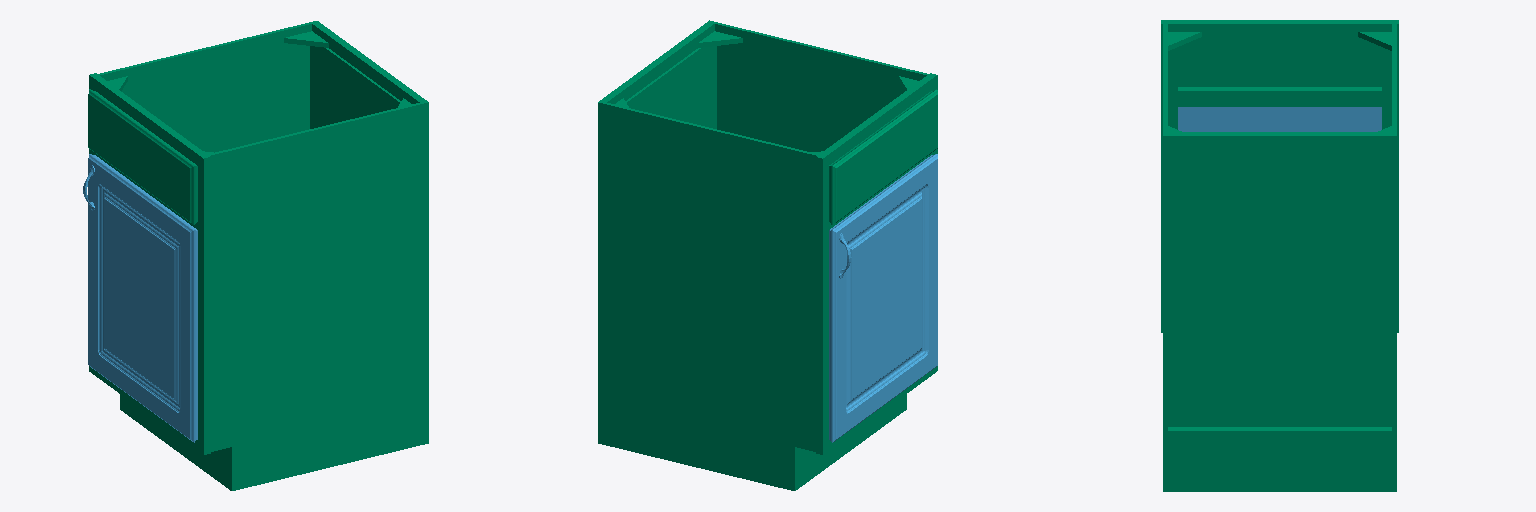
robot.urdf — partnet_20d00eeac9377d1212de5317fe5b354f:
<?xml version="1.0" ?>
<robot name="partnet_20d00eeac9377d1212de5317fe5b354f">
	<link name="base"/>
	<link name="link_0">
		<visual name="cabinet_door_surface-8">
			<origin xyz="-0.39966912784742503 -0.7383270263671877 -0.5033735011862669"/>
			<geometry>
				<mesh filename="textured_objs/original-47.obj"/>
			</geometry>
		</visual>
		<visual name="cabinet_door_surface-8">
			<origin xyz="-0.39966912784742503 -0.7383270263671877 -0.5033735011862669"/>
			<geometry>
				<mesh filename="textured_objs/original-41.obj"/>
			</geometry>
		</visual>
		<visual name="cabinet_door_surface-8">
			<origin xyz="-0.39966912784742503 -0.7383270263671877 -0.5033735011862669"/>
			<geometry>
				<mesh filename="textured_objs/original-37.obj"/>
			</geometry>
		</visual>
		<visual name="cabinet_door_surface-8">
			<origin xyz="-0.39966912784742503 -0.7383270263671877 -0.5033735011862669"/>
			<geometry>
				<mesh filename="textured_objs/original-43.obj"/>
			</geometry>
		</visual>
		<visual name="cabinet_door_surface-8">
			<origin xyz="-0.39966912784742503 -0.7383270263671877 -0.5033735011862669"/>
			<geometry>
				<mesh filename="textured_objs/original-39.obj"/>
			</geometry>
		</visual>
		<visual name="cabinet_door_surface-8">
			<origin xyz="-0.39966912784742503 -0.7383270263671877 -0.5033735011862669"/>
			<geometry>
				<mesh filename="textured_objs/original-42.obj"/>
			</geometry>
		</visual>
		<visual name="cabinet_door_surface-8">
			<origin xyz="-0.39966912784742503 -0.7383270263671877 -0.5033735011862669"/>
			<geometry>
				<mesh filename="textured_objs/original-40.obj"/>
			</geometry>
		</visual>
		<visual name="cabinet_door_surface-8">
			<origin xyz="-0.39966912784742503 -0.7383270263671877 -0.5033735011862669"/>
			<geometry>
				<mesh filename="textured_objs/original-44.obj"/>
			</geometry>
		</visual>
		<visual name="cabinet_door_surface-8">
			<origin xyz="-0.39966912784742503 -0.7383270263671877 -0.5033735011862669"/>
			<geometry>
				<mesh filename="textured_objs/original-38.obj"/>
			</geometry>
		</visual>
		<visual name="cabinet_door_surface-8">
			<origin xyz="-0.39966912784742503 -0.7383270263671877 -0.5033735011862669"/>
			<geometry>
				<mesh filename="textured_objs/original-46.obj"/>
			</geometry>
		</visual>
		<visual name="handle-9">
			<origin xyz="-0.39966912784742503 -0.7383270263671877 -0.5033735011862669"/>
			<geometry>
				<mesh filename="textured_objs/original-48.obj"/>
			</geometry>
		</visual>
		<collision>
			<origin xyz="-0.39966912784742503 -0.7383270263671877 -0.5033735011862669"/>
			<geometry>
				<mesh filename="textured_objs/original-47.obj"/>
			</geometry>
		</collision>
		<collision>
			<origin xyz="-0.39966912784742503 -0.7383270263671877 -0.5033735011862669"/>
			<geometry>
				<mesh filename="textured_objs/original-41.obj"/>
			</geometry>
		</collision>
		<collision>
			<origin xyz="-0.39966912784742503 -0.7383270263671877 -0.5033735011862669"/>
			<geometry>
				<mesh filename="textured_objs/original-37.obj"/>
			</geometry>
		</collision>
		<collision>
			<origin xyz="-0.39966912784742503 -0.7383270263671877 -0.5033735011862669"/>
			<geometry>
				<mesh filename="textured_objs/original-43.obj"/>
			</geometry>
		</collision>
		<collision>
			<origin xyz="-0.39966912784742503 -0.7383270263671877 -0.5033735011862669"/>
			<geometry>
				<mesh filename="textured_objs/original-39.obj"/>
			</geometry>
		</collision>
		<collision>
			<origin xyz="-0.39966912784742503 -0.7383270263671877 -0.5033735011862669"/>
			<geometry>
				<mesh filename="textured_objs/original-42.obj"/>
			</geometry>
		</collision>
		<collision>
			<origin xyz="-0.39966912784742503 -0.7383270263671877 -0.5033735011862669"/>
			<geometry>
				<mesh filename="textured_objs/original-40.obj"/>
			</geometry>
		</collision>
		<collision>
			<origin xyz="-0.39966912784742503 -0.7383270263671877 -0.5033735011862669"/>
			<geometry>
				<mesh filename="textured_objs/original-44.obj"/>
			</geometry>
		</collision>
		<collision>
			<origin xyz="-0.39966912784742503 -0.7383270263671877 -0.5033735011862669"/>
			<geometry>
				<mesh filename="textured_objs/original-38.obj"/>
			</geometry>
		</collision>
		<collision>
			<origin xyz="-0.39966912784742503 -0.7383270263671877 -0.5033735011862669"/>
			<geometry>
				<mesh filename="textured_objs/original-46.obj"/>
			</geometry>
		</collision>
		<collision>
			<origin xyz="-0.39966912784742503 -0.7383270263671877 -0.5033735011862669"/>
			<geometry>
				<mesh filename="textured_objs/original-48.obj"/>
			</geometry>
		</collision>
	</link>
	<joint name="joint_0" type="revolute">
		<origin xyz="0.39966912784742503 0.7383270263671877 0.5033735011862669"/>
		<axis xyz="0 1 0"/>
		<child link="link_0"/>
		<parent link="link_1"/>
		<limit lower="0.0" upper="1.5833626974092556"/>
	</joint>
	<link name="link_1">
		<visual name="drawer_front-7">
			<origin xyz="0 0 0"/>
			<geometry>
				<mesh filename="textured_objs/original-34.obj"/>
			</geometry>
		</visual>
		<visual name="drawer_front-7">
			<origin xyz="0 0 0"/>
			<geometry>
				<mesh filename="textured_objs/original-31.obj"/>
			</geometry>
		</visual>
		<visual name="drawer_front-7">
			<origin xyz="0 0 0"/>
			<geometry>
				<mesh filename="textured_objs/original-29.obj"/>
			</geometry>
		</visual>
		<visual name="drawer_front-7">
			<origin xyz="0 0 0"/>
			<geometry>
				<mesh filename="textured_objs/original-25.obj"/>
			</geometry>
		</visual>
		<visual name="drawer_front-7">
			<origin xyz="0 0 0"/>
			<geometry>
				<mesh filename="textured_objs/original-30.obj"/>
			</geometry>
		</visual>
		<visual name="drawer_front-7">
			<origin xyz="0 0 0"/>
			<geometry>
				<mesh filename="textured_objs/original-28.obj"/>
			</geometry>
		</visual>
		<visual name="drawer_front-7">
			<origin xyz="0 0 0"/>
			<geometry>
				<mesh filename="textured_objs/original-32.obj"/>
			</geometry>
		</visual>
		<visual name="drawer_front-7">
			<origin xyz="0 0 0"/>
			<geometry>
				<mesh filename="textured_objs/original-26.obj"/>
			</geometry>
		</visual>
		<visual name="drawer_front-7">
			<origin xyz="0 0 0"/>
			<geometry>
				<mesh filename="textured_objs/original-27.obj"/>
			</geometry>
		</visual>
		<visual name="drawer_front-7">
			<origin xyz="0 0 0"/>
			<geometry>
				<mesh filename="textured_objs/original-35.obj"/>
			</geometry>
		</visual>
		<visual name="frame_vertical_bar-20">
			<origin xyz="0 0 0"/>
			<geometry>
				<mesh filename="textured_objs/original-7.obj"/>
			</geometry>
		</visual>
		<visual name="frame_vertical_bar-21">
			<origin xyz="0 0 0"/>
			<geometry>
				<mesh filename="textured_objs/original-3.obj"/>
			</geometry>
		</visual>
		<visual name="frame_horizontal_bar-22">
			<origin xyz="0 0 0"/>
			<geometry>
				<mesh filename="textured_objs/original-8.obj"/>
			</geometry>
		</visual>
		<visual name="frame_horizontal_bar-23">
			<origin xyz="0 0 0"/>
			<geometry>
				<mesh filename="textured_objs/original-4.obj"/>
			</geometry>
		</visual>
		<visual name="frame_horizontal_bar-24">
			<origin xyz="0 0 0"/>
			<geometry>
				<mesh filename="textured_objs/original-17.obj"/>
			</geometry>
		</visual>
		<visual name="frame_horizontal_bar-25">
			<origin xyz="0 0 0"/>
			<geometry>
				<mesh filename="textured_objs/original-6.obj"/>
			</geometry>
		</visual>
		<visual name="other_leaf-27">
			<origin xyz="0 0 0"/>
			<geometry>
				<mesh filename="textured_objs/original-21.obj"/>
			</geometry>
		</visual>
		<visual name="other_leaf-28">
			<origin xyz="0 0 0"/>
			<geometry>
				<mesh filename="textured_objs/original-22.obj"/>
			</geometry>
		</visual>
		<visual name="other_leaf-29">
			<origin xyz="0 0 0"/>
			<geometry>
				<mesh filename="textured_objs/original-23.obj"/>
			</geometry>
		</visual>
		<visual name="other_leaf-30">
			<origin xyz="0 0 0"/>
			<geometry>
				<mesh filename="textured_objs/original-20.obj"/>
			</geometry>
		</visual>
		<visual name="vertical_side_panel-31">
			<origin xyz="0 0 0"/>
			<geometry>
				<mesh filename="textured_objs/original-15.obj"/>
			</geometry>
		</visual>
		<visual name="vertical_side_panel-31">
			<origin xyz="0 0 0"/>
			<geometry>
				<mesh filename="textured_objs/original-14.obj"/>
			</geometry>
		</visual>
		<visual name="vertical_side_panel-32">
			<origin xyz="0 0 0"/>
			<geometry>
				<mesh filename="textured_objs/original-11.obj"/>
			</geometry>
		</visual>
		<visual name="vertical_side_panel-32">
			<origin xyz="0 0 0"/>
			<geometry>
				<mesh filename="textured_objs/original-10.obj"/>
			</geometry>
		</visual>
		<visual name="back_panel-33">
			<origin xyz="0 0 0"/>
			<geometry>
				<mesh filename="textured_objs/original-5.obj"/>
			</geometry>
		</visual>
		<visual name="bottom_panel-34">
			<origin xyz="0 0 0"/>
			<geometry>
				<mesh filename="textured_objs/original-2.obj"/>
			</geometry>
		</visual>
		<visual name="other_leaf-36">
			<origin xyz="0 0 0"/>
			<geometry>
				<mesh filename="textured_objs/original-49.obj"/>
			</geometry>
		</visual>
		<visual name="base_side_panel-11">
			<origin xyz="0 0 0"/>
			<geometry>
				<mesh filename="textured_objs/original-16.obj"/>
			</geometry>
		</visual>
		<visual name="base_side_panel-12">
			<origin xyz="0 0 0"/>
			<geometry>
				<mesh filename="textured_objs/original-12.obj"/>
			</geometry>
		</visual>
		<visual name="base_side_panel-13">
			<origin xyz="0 0 0"/>
			<geometry>
				<mesh filename="textured_objs/original-18.obj"/>
			</geometry>
		</visual>
		<visual name="base_side_panel-14">
			<origin xyz="0 0 0"/>
			<geometry>
				<mesh filename="textured_objs/original-19.obj"/>
			</geometry>
		</visual>
		<collision>
			<origin xyz="0 0 0"/>
			<geometry>
				<mesh filename="textured_objs/original-34.obj"/>
			</geometry>
		</collision>
		<collision>
			<origin xyz="0 0 0"/>
			<geometry>
				<mesh filename="textured_objs/original-31.obj"/>
			</geometry>
		</collision>
		<collision>
			<origin xyz="0 0 0"/>
			<geometry>
				<mesh filename="textured_objs/original-29.obj"/>
			</geometry>
		</collision>
		<collision>
			<origin xyz="0 0 0"/>
			<geometry>
				<mesh filename="textured_objs/original-25.obj"/>
			</geometry>
		</collision>
		<collision>
			<origin xyz="0 0 0"/>
			<geometry>
				<mesh filename="textured_objs/original-30.obj"/>
			</geometry>
		</collision>
		<collision>
			<origin xyz="0 0 0"/>
			<geometry>
				<mesh filename="textured_objs/original-28.obj"/>
			</geometry>
		</collision>
		<collision>
			<origin xyz="0 0 0"/>
			<geometry>
				<mesh filename="textured_objs/original-32.obj"/>
			</geometry>
		</collision>
		<collision>
			<origin xyz="0 0 0"/>
			<geometry>
				<mesh filename="textured_objs/original-26.obj"/>
			</geometry>
		</collision>
		<collision>
			<origin xyz="0 0 0"/>
			<geometry>
				<mesh filename="textured_objs/original-27.obj"/>
			</geometry>
		</collision>
		<collision>
			<origin xyz="0 0 0"/>
			<geometry>
				<mesh filename="textured_objs/original-35.obj"/>
			</geometry>
		</collision>
		<collision>
			<origin xyz="0 0 0"/>
			<geometry>
				<mesh filename="textured_objs/original-7.obj"/>
			</geometry>
		</collision>
		<collision>
			<origin xyz="0 0 0"/>
			<geometry>
				<mesh filename="textured_objs/original-3.obj"/>
			</geometry>
		</collision>
		<collision>
			<origin xyz="0 0 0"/>
			<geometry>
				<mesh filename="textured_objs/original-8.obj"/>
			</geometry>
		</collision>
		<collision>
			<origin xyz="0 0 0"/>
			<geometry>
				<mesh filename="textured_objs/original-4.obj"/>
			</geometry>
		</collision>
		<collision>
			<origin xyz="0 0 0"/>
			<geometry>
				<mesh filename="textured_objs/original-17.obj"/>
			</geometry>
		</collision>
		<collision>
			<origin xyz="0 0 0"/>
			<geometry>
				<mesh filename="textured_objs/original-6.obj"/>
			</geometry>
		</collision>
		<collision>
			<origin xyz="0 0 0"/>
			<geometry>
				<mesh filename="textured_objs/original-21.obj"/>
			</geometry>
		</collision>
		<collision>
			<origin xyz="0 0 0"/>
			<geometry>
				<mesh filename="textured_objs/original-22.obj"/>
			</geometry>
		</collision>
		<collision>
			<origin xyz="0 0 0"/>
			<geometry>
				<mesh filename="textured_objs/original-23.obj"/>
			</geometry>
		</collision>
		<collision>
			<origin xyz="0 0 0"/>
			<geometry>
				<mesh filename="textured_objs/original-20.obj"/>
			</geometry>
		</collision>
		<collision>
			<origin xyz="0 0 0"/>
			<geometry>
				<mesh filename="textured_objs/original-15.obj"/>
			</geometry>
		</collision>
		<collision>
			<origin xyz="0 0 0"/>
			<geometry>
				<mesh filename="textured_objs/original-14.obj"/>
			</geometry>
		</collision>
		<collision>
			<origin xyz="0 0 0"/>
			<geometry>
				<mesh filename="textured_objs/original-11.obj"/>
			</geometry>
		</collision>
		<collision>
			<origin xyz="0 0 0"/>
			<geometry>
				<mesh filename="textured_objs/original-10.obj"/>
			</geometry>
		</collision>
		<collision>
			<origin xyz="0 0 0"/>
			<geometry>
				<mesh filename="textured_objs/original-5.obj"/>
			</geometry>
		</collision>
		<collision>
			<origin xyz="0 0 0"/>
			<geometry>
				<mesh filename="textured_objs/original-2.obj"/>
			</geometry>
		</collision>
		<collision>
			<origin xyz="0 0 0"/>
			<geometry>
				<mesh filename="textured_objs/original-49.obj"/>
			</geometry>
		</collision>
		<collision>
			<origin xyz="0 0 0"/>
			<geometry>
				<mesh filename="textured_objs/original-16.obj"/>
			</geometry>
		</collision>
		<collision>
			<origin xyz="0 0 0"/>
			<geometry>
				<mesh filename="textured_objs/original-12.obj"/>
			</geometry>
		</collision>
		<collision>
			<origin xyz="0 0 0"/>
			<geometry>
				<mesh filename="textured_objs/original-18.obj"/>
			</geometry>
		</collision>
		<collision>
			<origin xyz="0 0 0"/>
			<geometry>
				<mesh filename="textured_objs/original-19.obj"/>
			</geometry>
		</collision>
	</link>
	<joint name="joint_1" type="fixed">
		<origin rpy="1.570796326794897 0 -1.570796326794897" xyz="0 0 0"/>
		<child link="link_1"/>
		<parent link="base"/>
	</joint>
</robot>

--- Facts derived from the render (not from the file) ---
3 views of the same robot in one strip: view 1: azimuth 30°, elevation 25°; view 2: azimuth 150°, elevation 25°; view 3: azimuth 270°, elevation 25° (orthographic).
Robot: partnet_20d00eeac9377d1212de5317fe5b354f — 3 links, 2 joints (1 revolute, 1 fixed); root link base; default pose: every joint at zero.
Visible links, largest first — view 1: link_1, link_0; view 2: link_1, link_0; view 3: link_1, link_0.
Link boxes in pixels (x1,y1,x2,y2): link_1: (88, 21, 428, 490); link_0: (83, 154, 197, 442); link_1: (598, 20, 937, 490); link_0: (829, 154, 937, 442); link_1: (1161, 20, 1398, 491); link_0: (1178, 107, 1381, 131).
Size in the robot's own frame: 1.09 by 0.8907 by 1.46 metres.
Meshes: 42 distinct files referenced, 42 mesh visuals loaded (42 OBJ).
